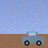vehicle: (22, 32, 44, 46)
